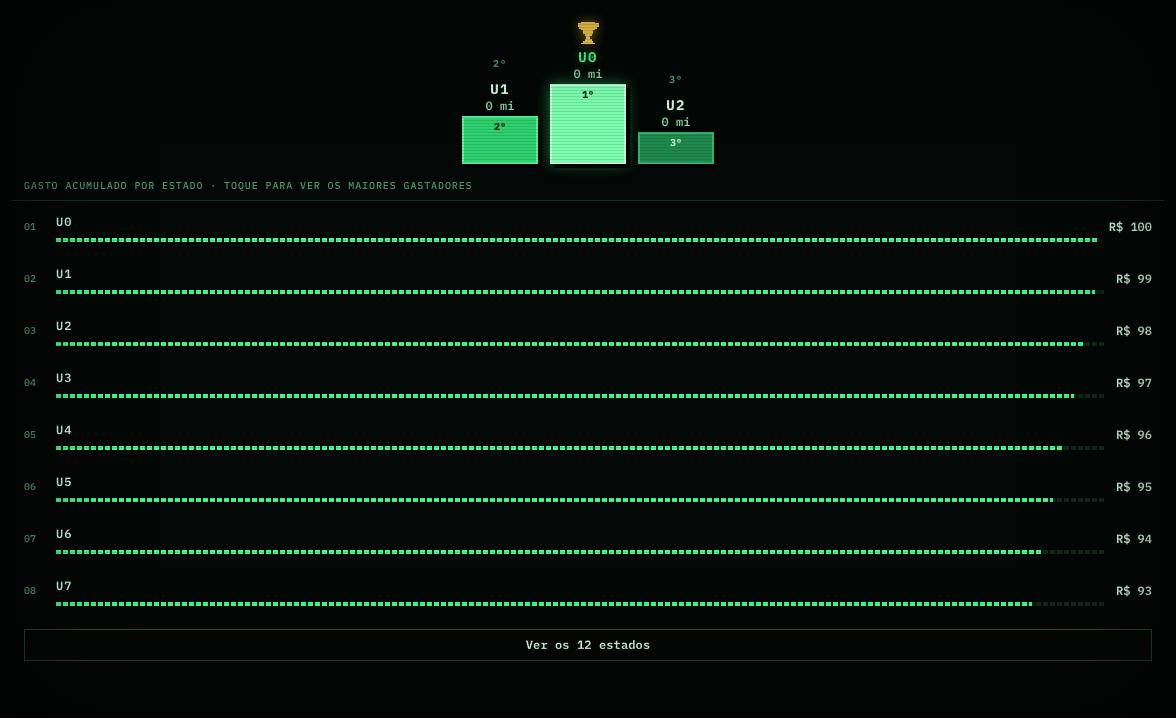
it: UfPainel — pódio e mapa pixel › mobile limita a 8 estados e expande para todos
What coordinates should you click on to do the following:
click the button "Ver os 12 estados"
I would click on:
 (588, 645)
Its box is [24,629,1152,661].
(page scrolled)
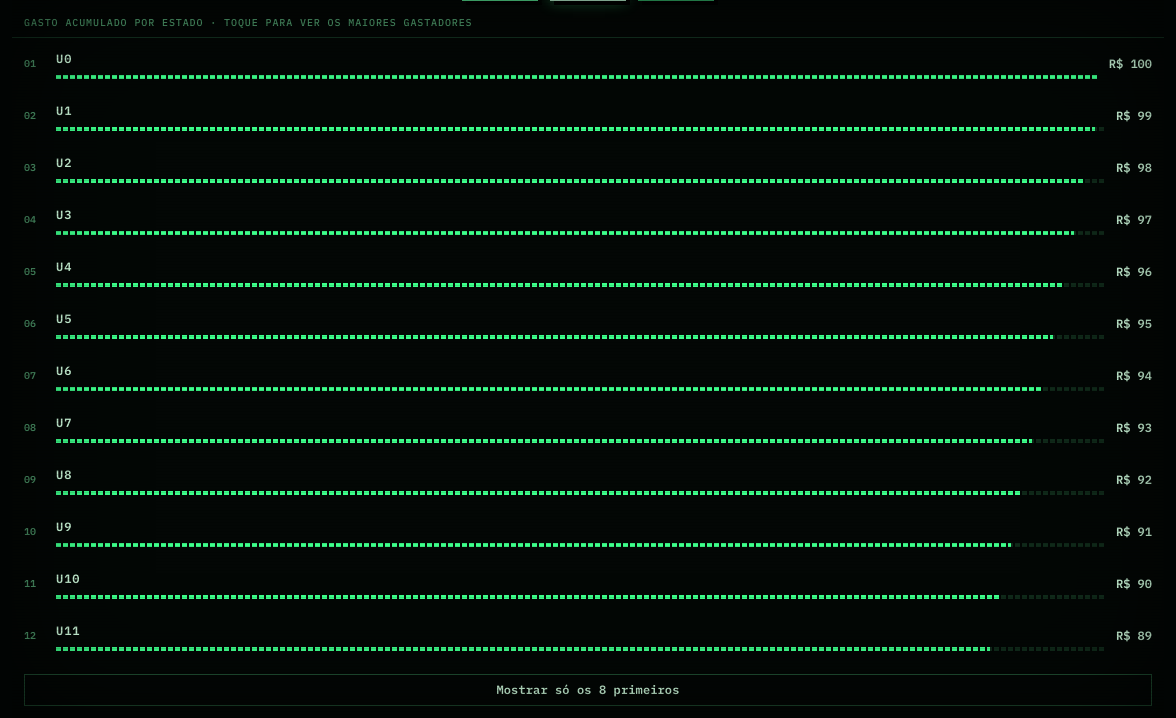
Now the button "Mostrar só os 8 primeiros" is shown, box [24,674,1152,706]
